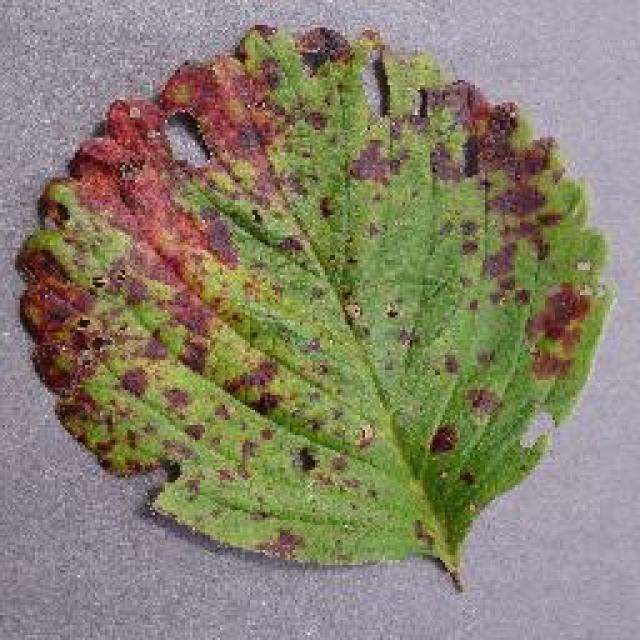Strawberry leaf scorch: (50, 70, 533, 435)
